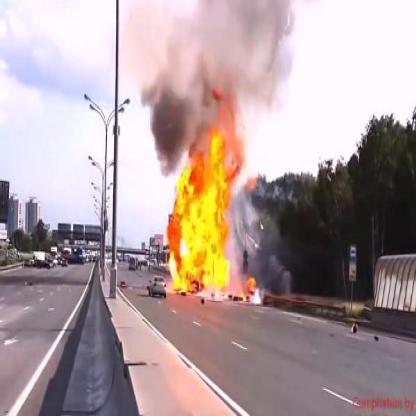fire: (166, 110, 258, 306)
